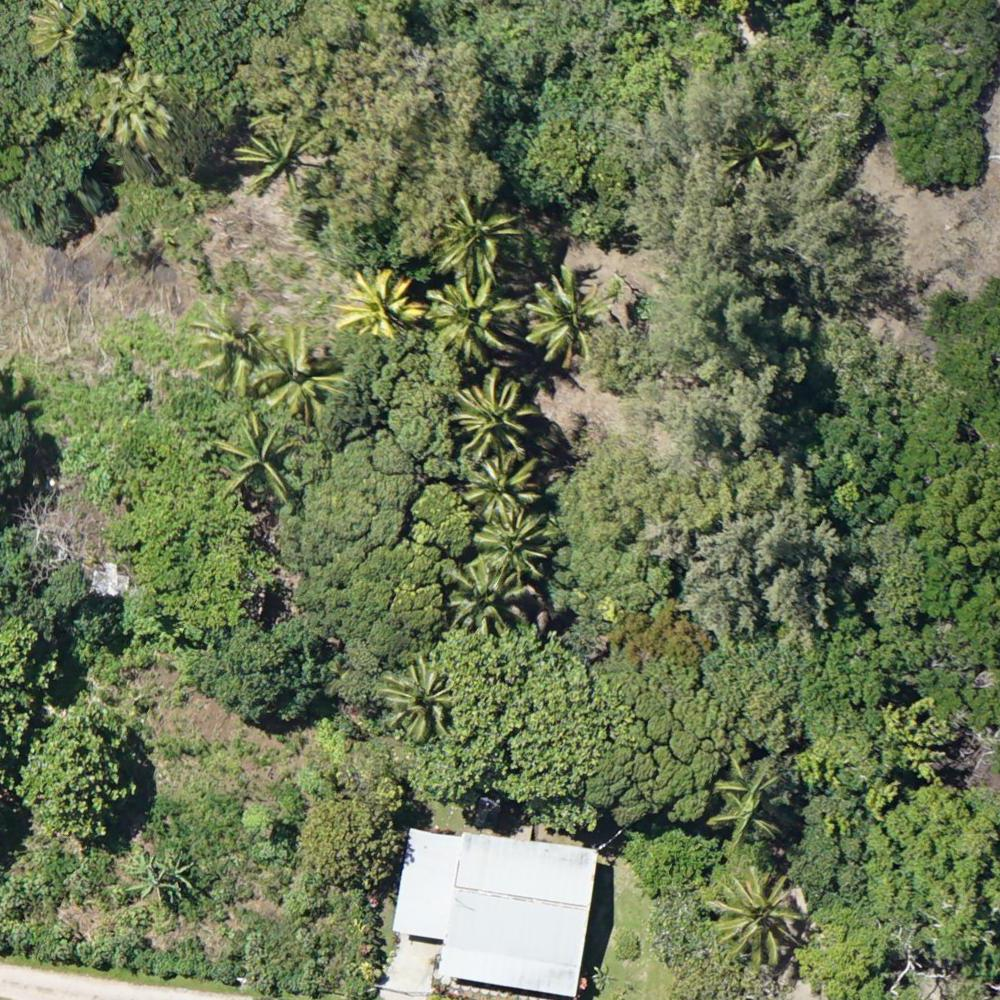Palm: (711, 868, 802, 963), (452, 363, 542, 458), (428, 275, 522, 360), (530, 272, 615, 359), (335, 267, 424, 345), (263, 329, 343, 415), (435, 196, 516, 279), (215, 421, 297, 501), (235, 121, 320, 198), (445, 560, 529, 636), (381, 662, 457, 738), (475, 511, 550, 577), (462, 456, 541, 518), (716, 781, 785, 845)
